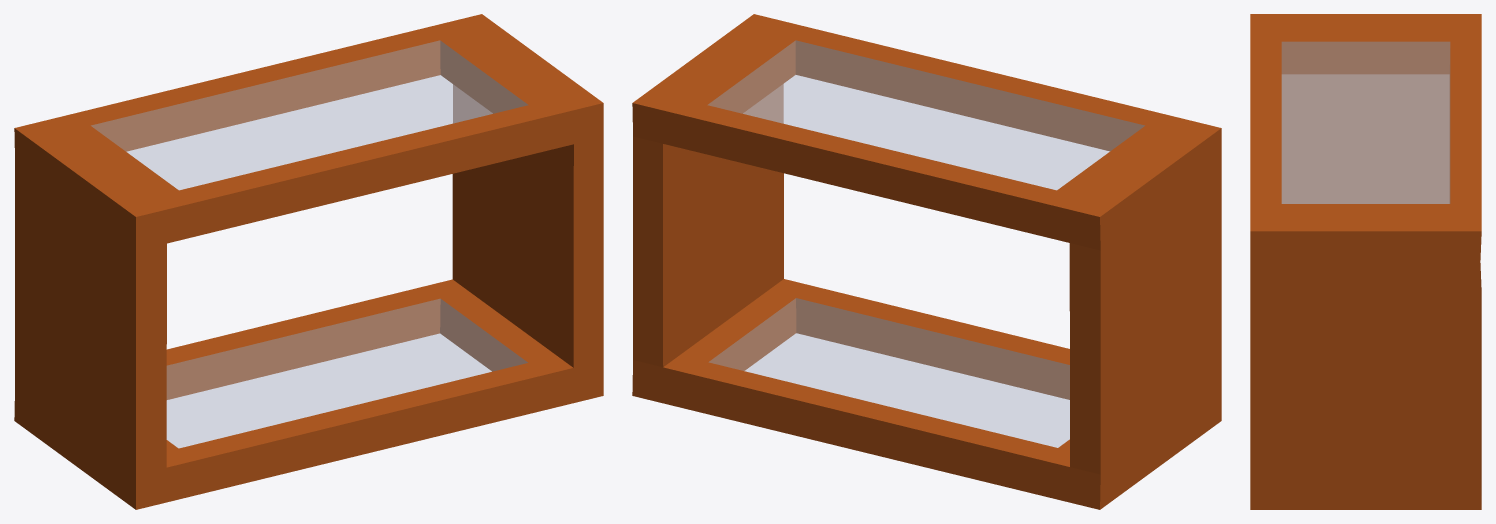
File: rectangle table with glass copper.glb
3 renders of one model, left to right at view 1: azimuth 30°, elevation 25°; view 2: azimuth 150°, elevation 25°; view 3: azimuth 270°, elevation 25°, orthographic. The views are drawn at different scales.
Visible parts, largest first — view 1: rectangle table glass copper; view 2: rectangle table glass copper; view 3: rectangle table glass copper.
Part boxes in pixels (x1=…): rectangle table glass copper: x1=14, y1=14, x2=603, y2=509; rectangle table glass copper: x1=632, y1=14, x2=1221, y2=509; rectangle table glass copper: x1=1250, y1=14, x2=1481, y2=509.
Size of the model in its own units: 1.55 by 0.9305 by 0.7.
